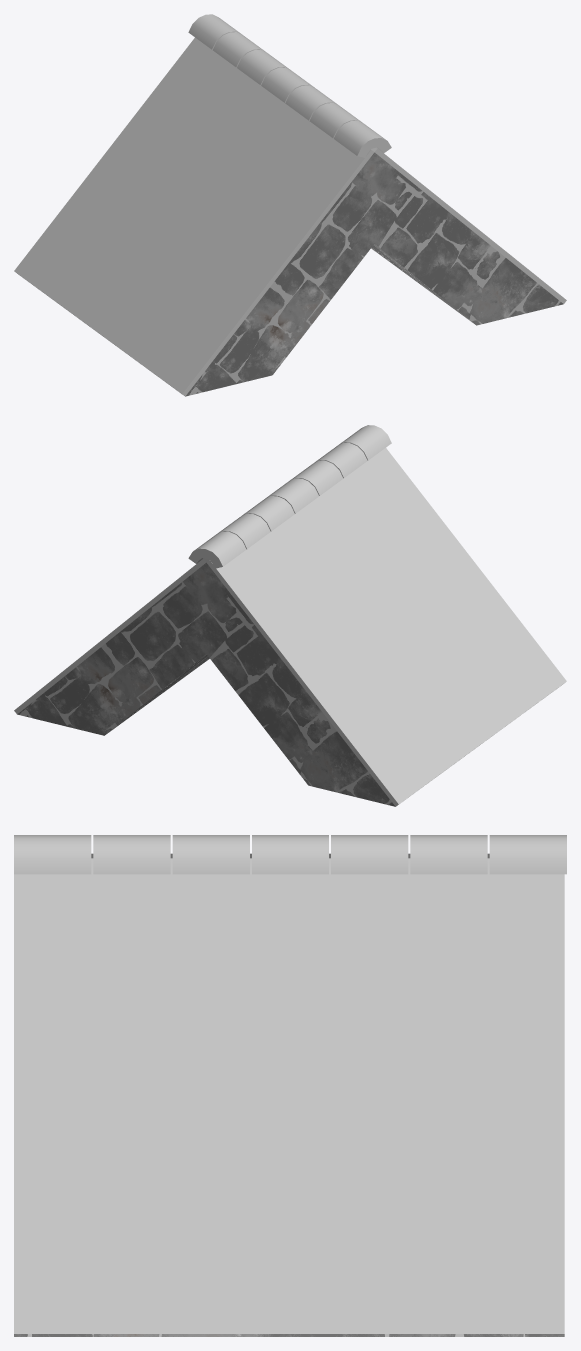
The model's file is Roof_Top.fbx.
The picture shows the model from 3 angles, top to bottom: view 1: azimuth 30°, elevation 25°; view 2: azimuth 150°, elevation 25°; view 3: azimuth 270°, elevation 25°; orthographic projection. The views are drawn at different scales.
Visible parts, largest first — view 1: Plane.163, Plane.043; view 2: Plane.163, Plane.043; view 3: Plane.163, Plane.043.
Boxes of the visible parts, x1,y1,x2,y2 form: Plane.163: (14,14,566,396); Plane.043: (17,152,563,396); Plane.163: (14,425,566,806); Plane.043: (17,562,562,806); Plane.163: (14,835,566,1333); Plane.043: (14,1334,564,1336).
Bounding box in the file's own units: 6.61 × 3.48 × 5.02.
